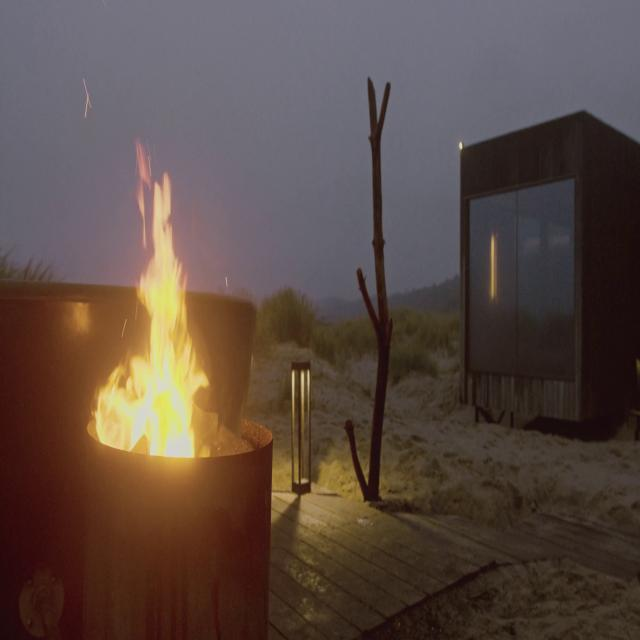Fire: (92, 134, 210, 469)
